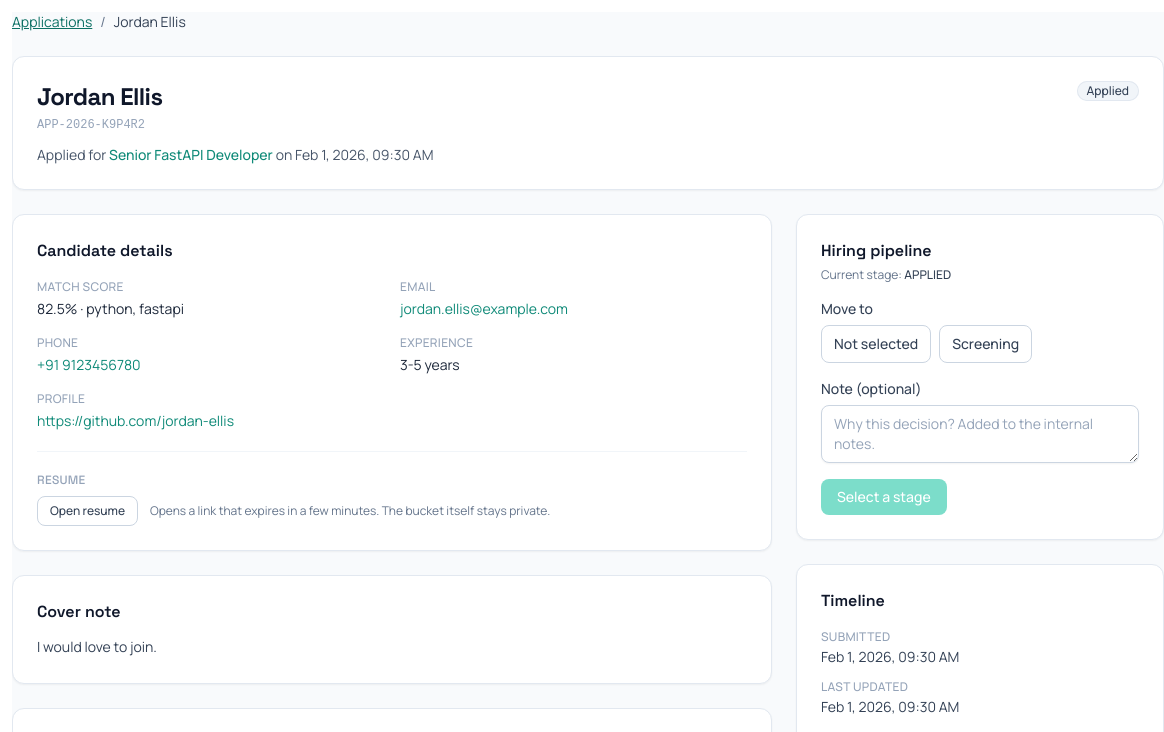
Test: AdminApplicationDetailPage › surfaces an illegal transition rejected by the server
Expected: the heading "Jordan Ellis" is shown, 37,81 -> 162,112
Click the button "Screening" at (986, 344), box 939,325 -> 1032,363
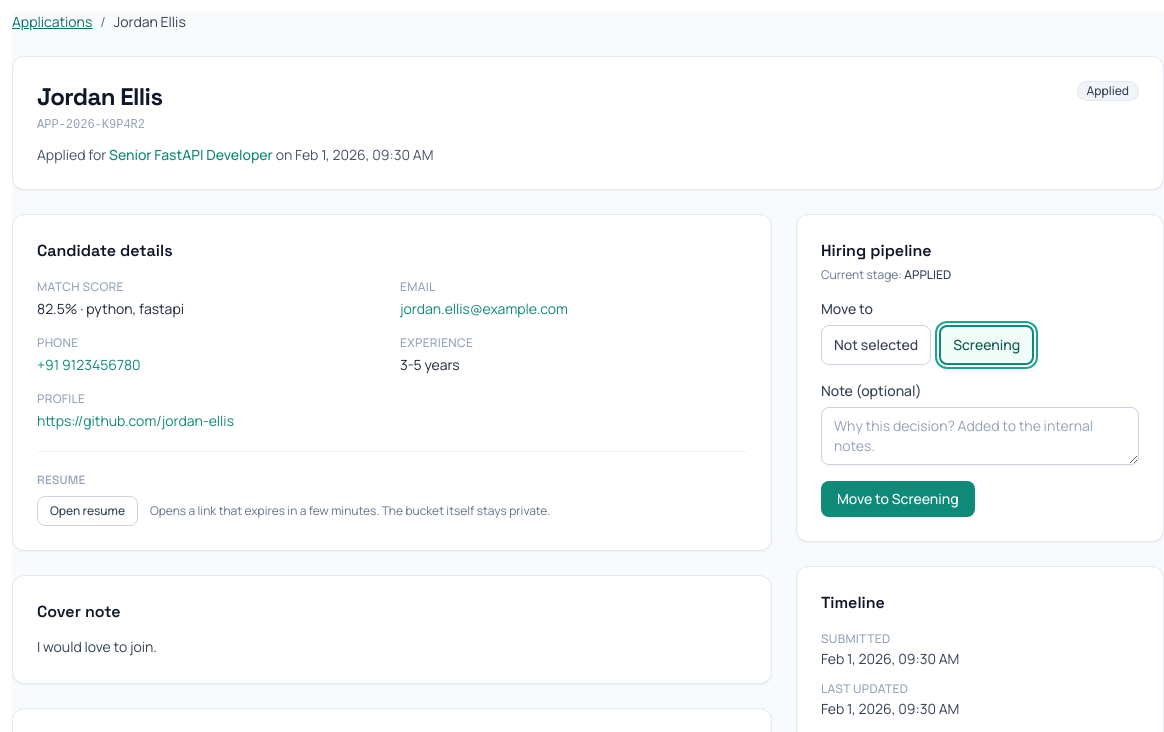
Click the button "Move to Screening" at (898, 499), box 821,481 -> 975,517
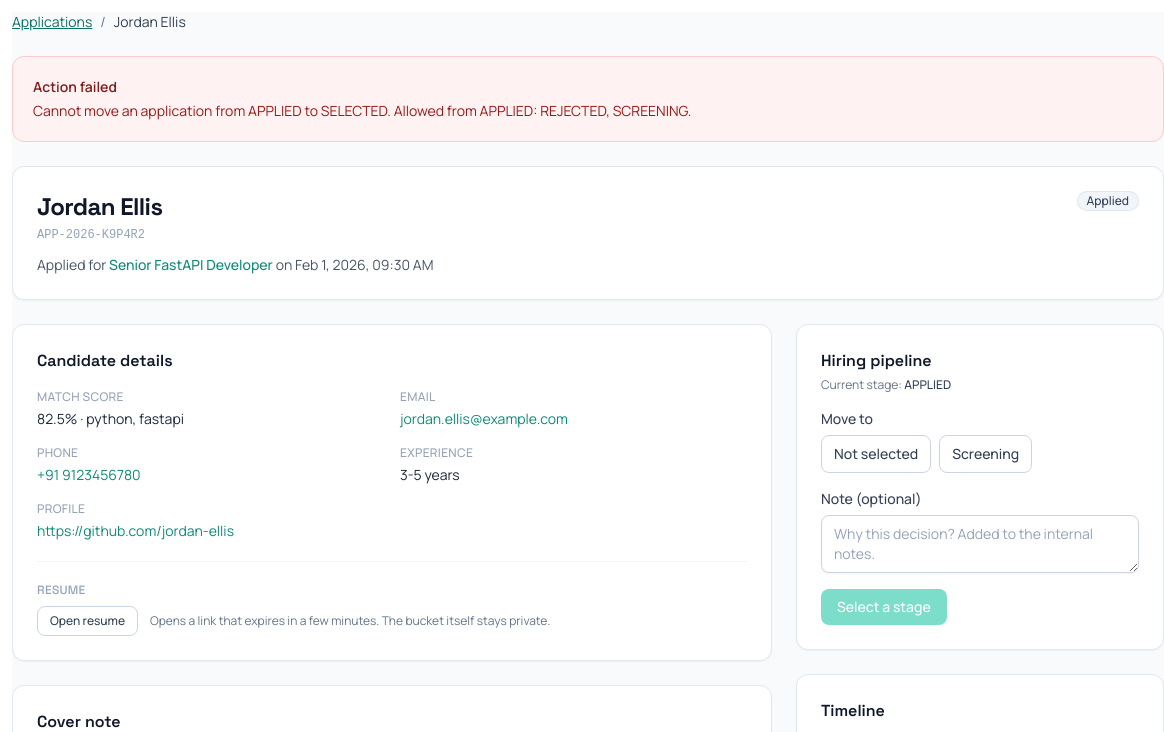
Expected: the message shows "Cannot move an application", 33,101 -> 691,120
